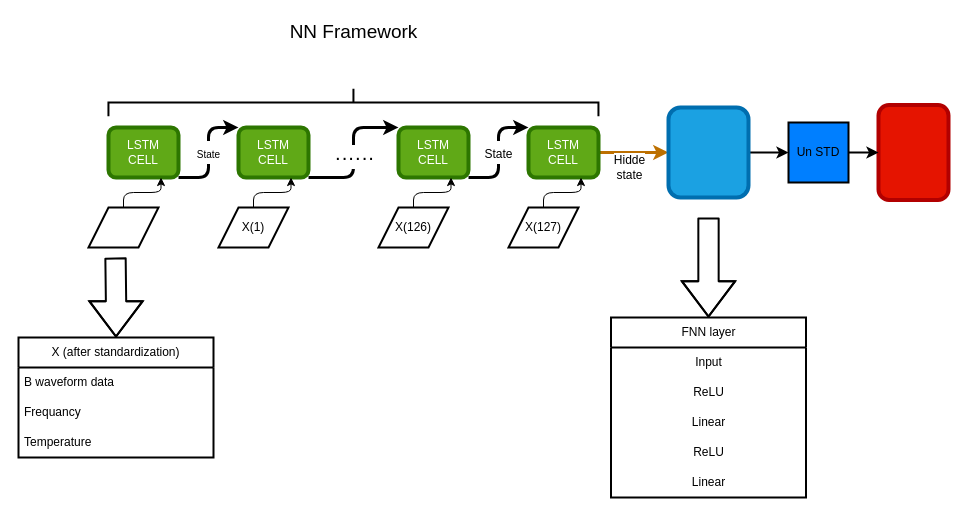
Image size: 967x515. Some labels were removed from this diagram. The centre of each missing label's shape, as x and y in pixels:
"128 waveform data points" belongs at (353,102).
"FNN" belongs at (708,152).
"Loss" belongs at (913,152).
"X(0)" belongs at (123,227).
